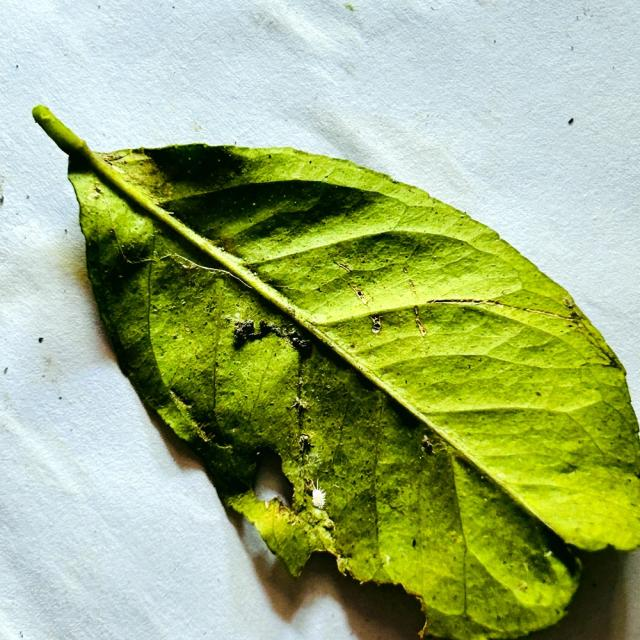Deficiency Leaf: (284, 552, 425, 639), (253, 435, 311, 510)
Lemon: (33, 106, 639, 639)
